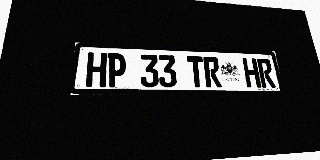3: (140, 54, 159, 87), (158, 55, 177, 87)
H: (85, 52, 107, 87), (242, 58, 261, 88)
P: (106, 53, 126, 87)
R: (203, 56, 222, 88), (256, 58, 276, 88)
T: (187, 56, 206, 87)
